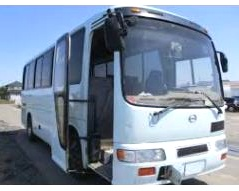bus: (20, 8, 231, 182)
